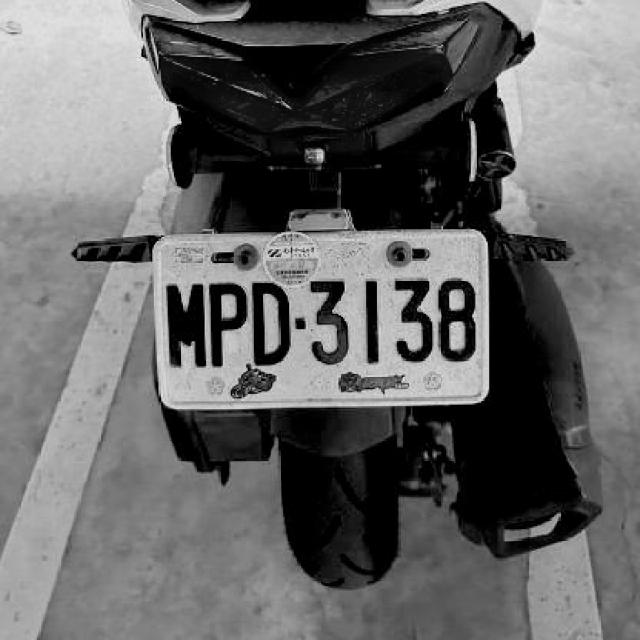-: (294, 314, 308, 328)
1: (362, 277, 382, 360)
3: (391, 274, 434, 361), (308, 278, 350, 362)
8: (435, 274, 480, 361)
D: (251, 275, 289, 371)
M: (165, 283, 208, 372)
P: (208, 279, 249, 366)
